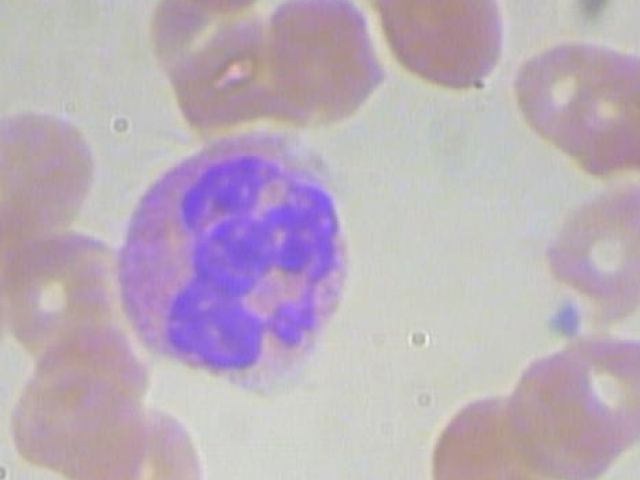Platelets: (537, 298, 588, 344)
RBC: (249, 0, 397, 127), (534, 177, 640, 323), (0, 93, 105, 239), (362, 0, 509, 98), (544, 324, 640, 470), (0, 369, 6, 480)
WBC: (92, 118, 366, 392)
